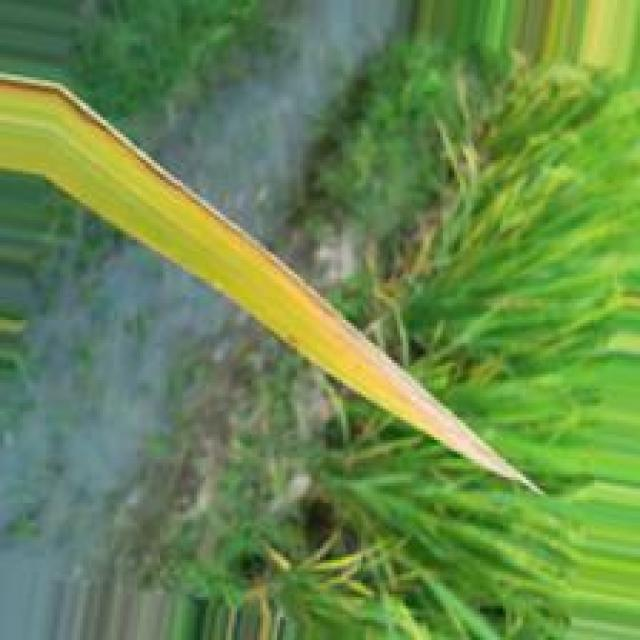Bacterial_Leaf_Blight: (0, 66, 547, 493)
